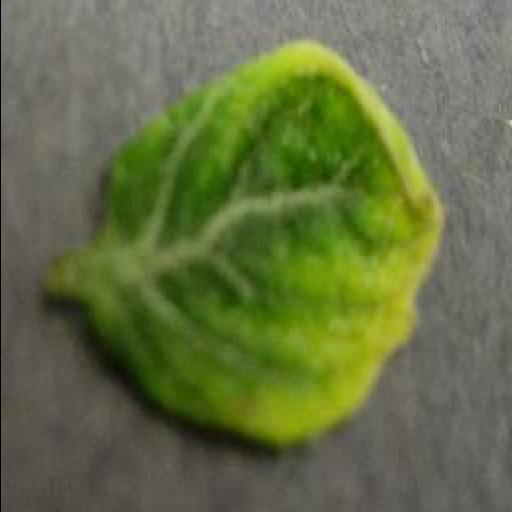disease_tomato: (96, 46, 446, 446)
